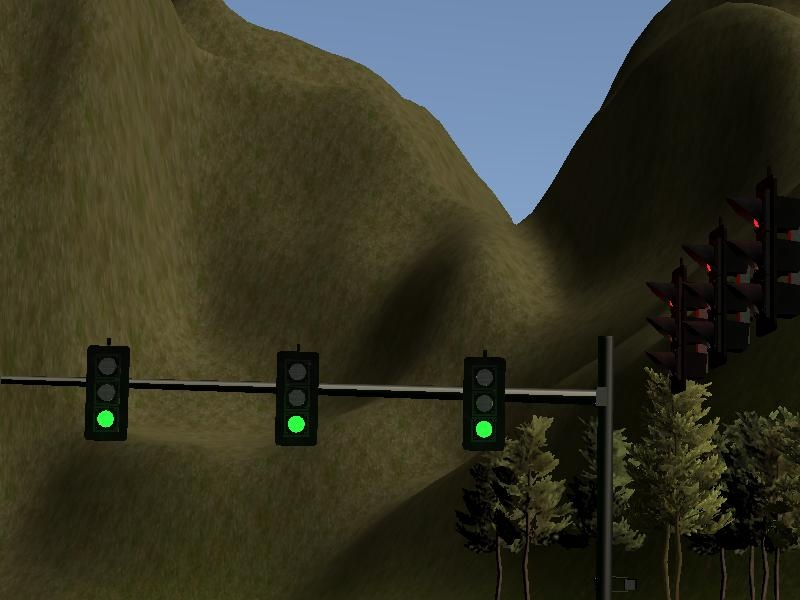GREEN: (275, 351, 319, 448), (86, 346, 129, 442), (464, 358, 505, 449)
